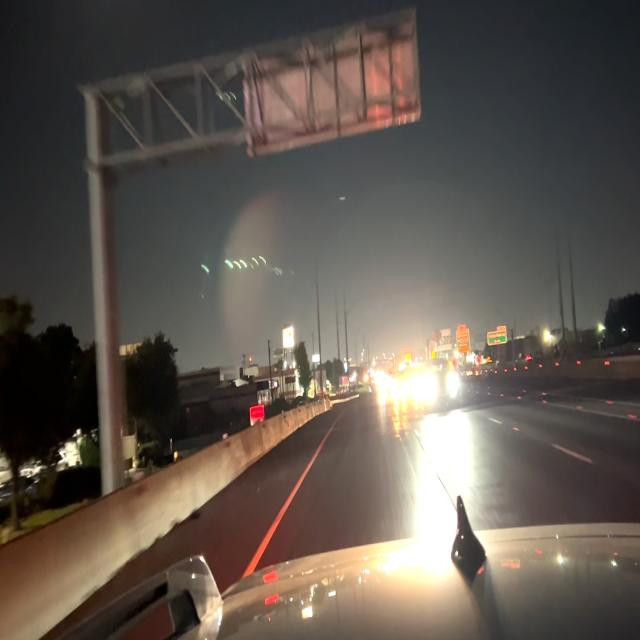back-of-sign: (238, 5, 425, 162)
